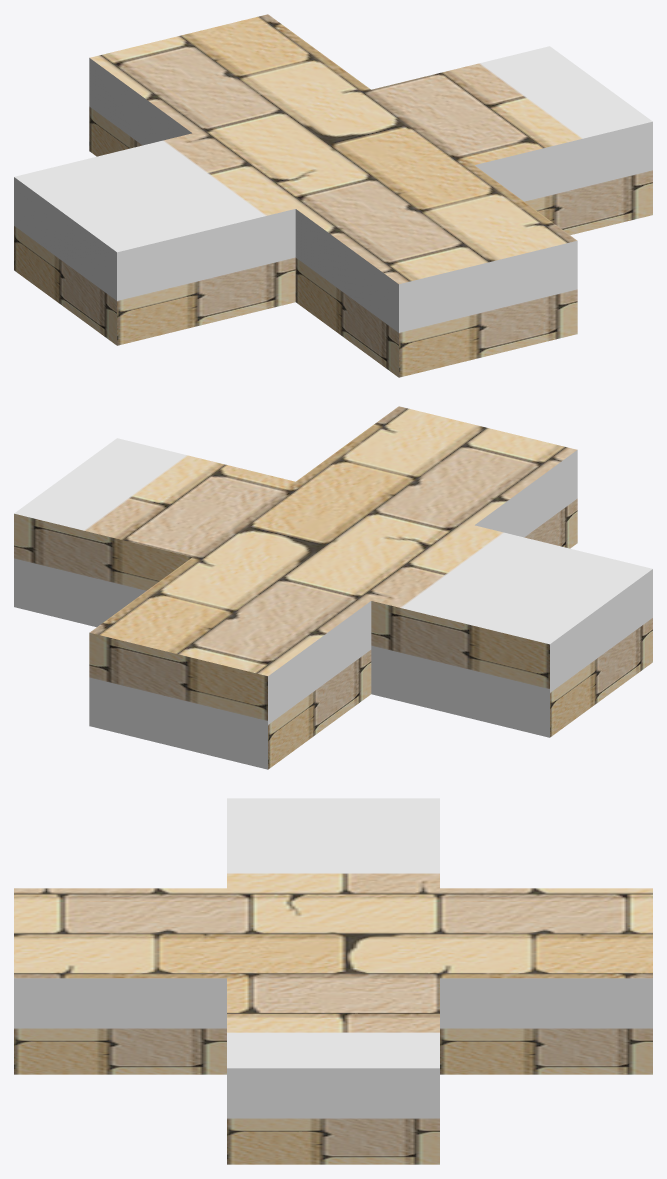
File: blockPlus.fbx
3 views of the same model, one above another, from view 1: azimuth 30°, elevation 25°; view 2: azimuth 150°, elevation 25°; view 3: azimuth 270°, elevation 25° (orthographic). The views are drawn at different scales.
Visible parts, largest first — view 1: pCube1; view 2: pCube1; view 3: pCube1.
Boxes of the visible parts, x1,y1,x2,y2 form: pCube1: [14, 14, 652, 377]; pCube1: [14, 406, 652, 769]; pCube1: [14, 798, 652, 1164].
Bounding box in the file's own units: 300 × 50 × 300.
